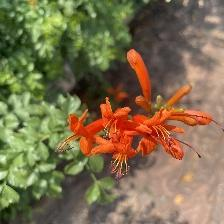honeysuckle: (66, 101, 191, 172)
